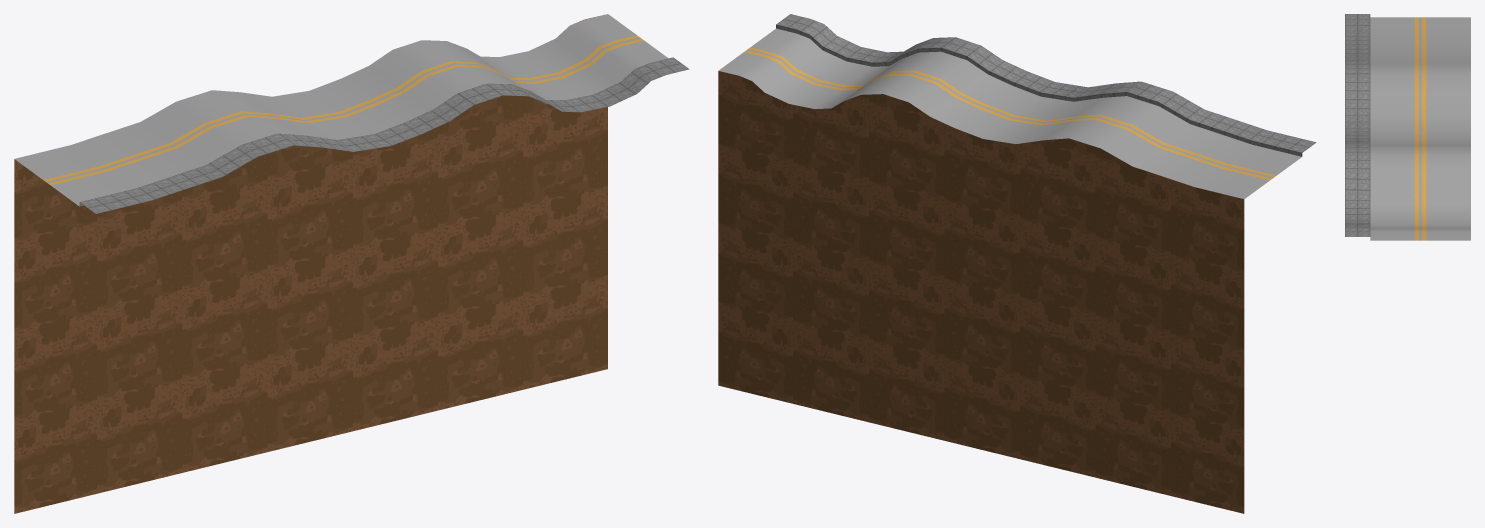
The model's file is Terrain_03_hills.FBX.
3 views of the same model, side by side, from view 1: azimuth 30°, elevation 25°; view 2: azimuth 150°, elevation 25°; view 3: azimuth 270°, elevation 25° (orthographic). The views are drawn at different scales.
Parts seen in each view (by area): view 1: Terrain_03_ground, Terrain_03; view 2: Terrain_03_ground, Terrain_03; view 3: Terrain_03.
Part boxes in pixels (<box>): Terrain_03_ground: <box>14,16,607,513</box>; Terrain_03: <box>15,14,689,213</box>; Terrain_03_ground: <box>718,71,1244,513</box>; Terrain_03: <box>718,14,1316,199</box>; Terrain_03: <box>1345,14,1470,240</box>.
Size of the model in its own units: 210 by 128 by 50.
